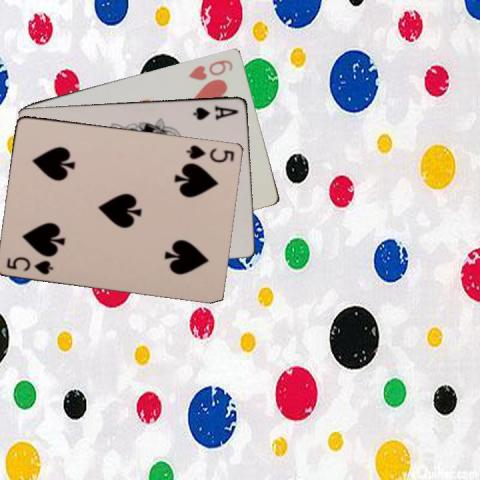5s: (4, 253, 55, 276), (183, 142, 236, 164)
6h: (186, 56, 235, 81)
As: (190, 103, 239, 121)
